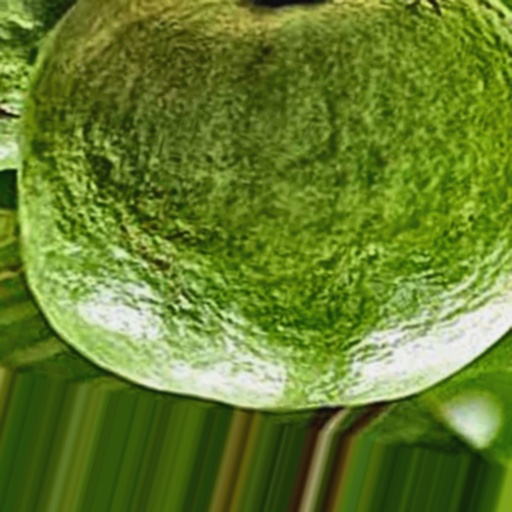guava: (49, 56, 501, 508)
